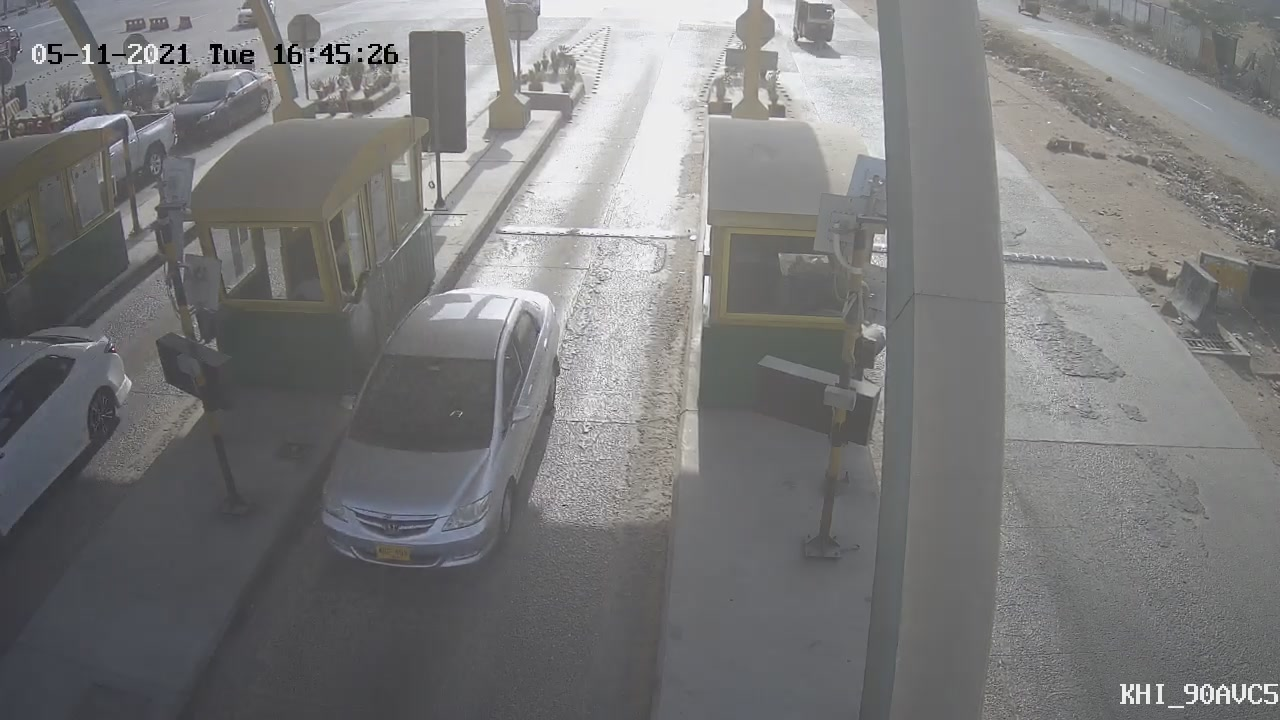F1: (298, 274, 583, 594)
